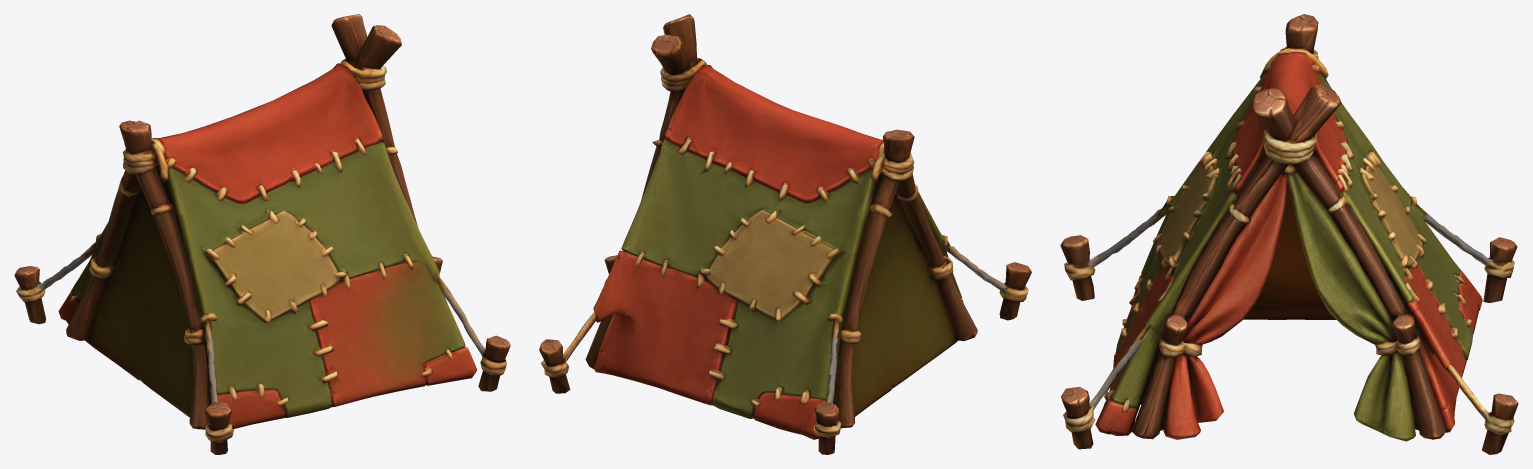
File: W_Tent_A_raw.glb
3 views of the same model, side by side, from view 1: azimuth 30°, elevation 25°; view 2: azimuth 150°, elevation 25°; view 3: azimuth 270°, elevation 25° (orthographic). The views are drawn at different scales.
Parts seen in each view (by area): view 1: tripo_node_28bb6d6e-6195-4a5e-9c6d-8d673e002f51; view 2: tripo_node_28bb6d6e-6195-4a5e-9c6d-8d673e002f51; view 3: tripo_node_28bb6d6e-6195-4a5e-9c6d-8d673e002f51.
Boxes of the visible parts, x1=… form: tripo_node_28bb6d6e-6195-4a5e-9c6d-8d673e002f51: x1=14, y1=14, x2=510, y2=454; tripo_node_28bb6d6e-6195-4a5e-9c6d-8d673e002f51: x1=539, y1=14, x2=1031, y2=454; tripo_node_28bb6d6e-6195-4a5e-9c6d-8d673e002f51: x1=1060, y1=14, x2=1518, y2=454.
Bounding box in the file's own units: 0.8517 × 0.8389 × 1.
Materials: 1 (1 with a texture image).
